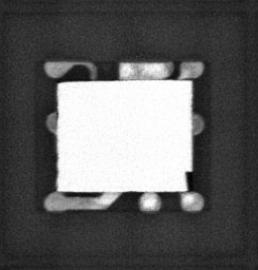DIE_BROKEN: (184, 169, 193, 192)
